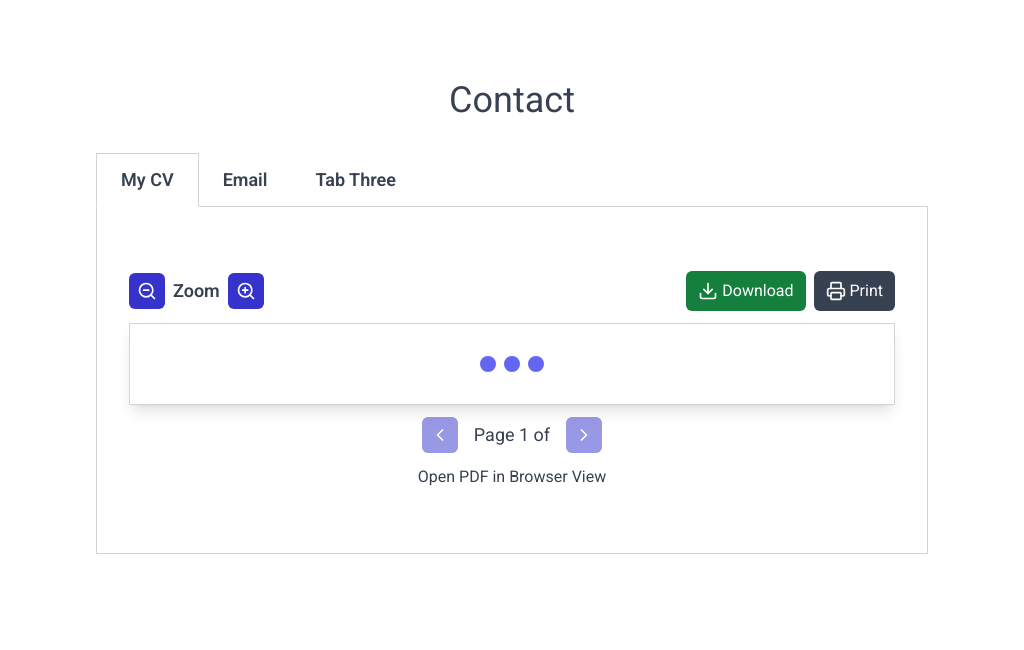
it: Contact Page Component › switches to email tab when clicked
The width and height of the screenshot is (1024, 650).
What coordinates should you click on to do the following:
click the tab "Email"
I would click on:
 (245, 180)
Its box is [199,153,291,207].
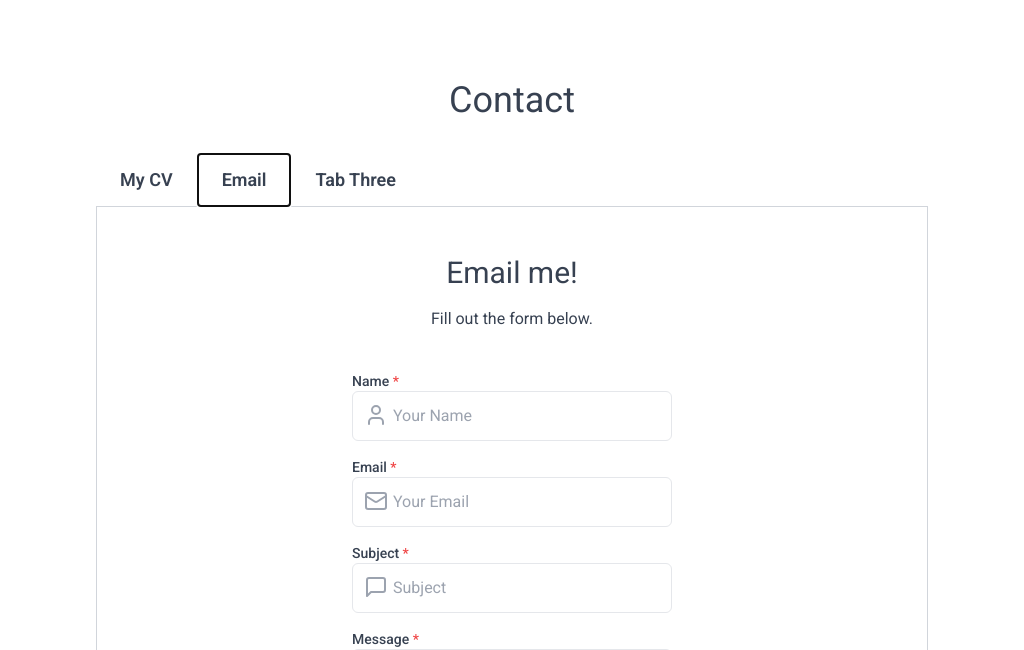
Result: the field labelled "Name *" is shown at [352,391,672,441]
